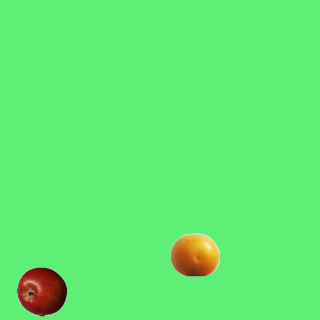Apple Braeburn: (16, 266, 66, 316)
Cherry Wax Yellow: (169, 229, 219, 279)
